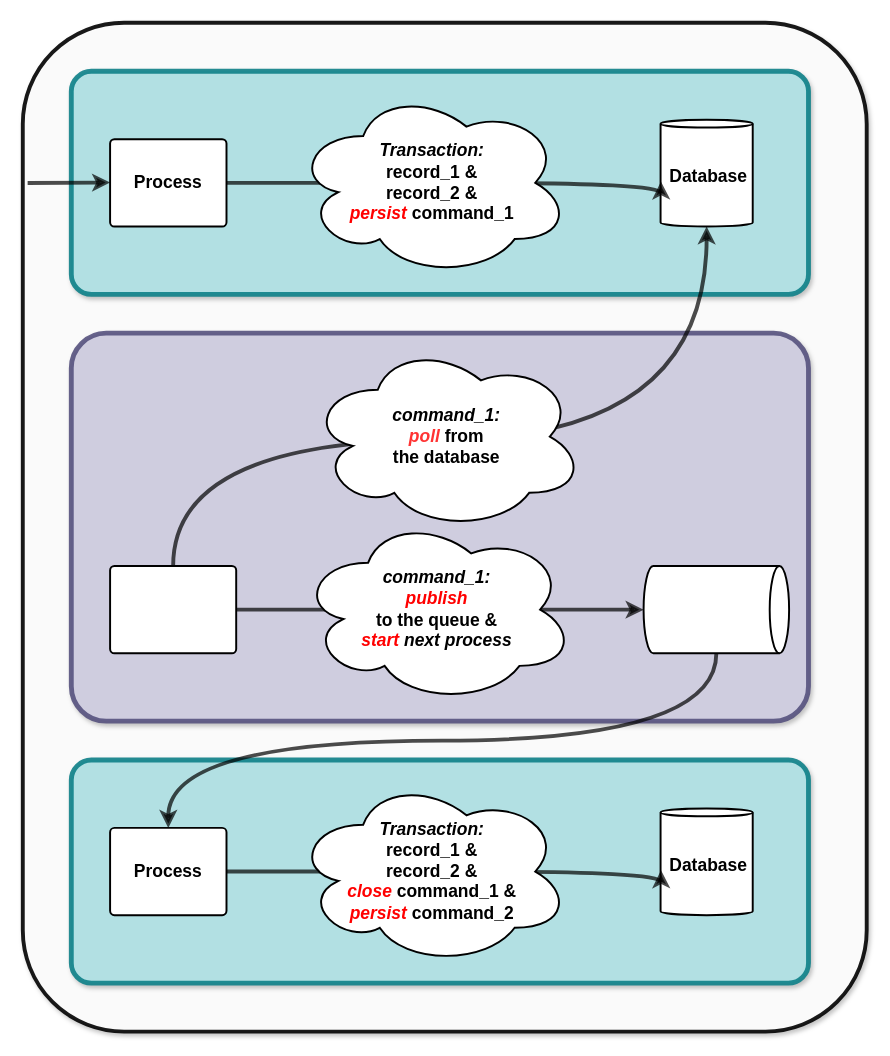
This 890x1056 diagram has some shape labels left out. Each missing label, with the centre of its shape:
"Outboxer" goes at point 173,609.
"Queue" goes at point 716,609.
